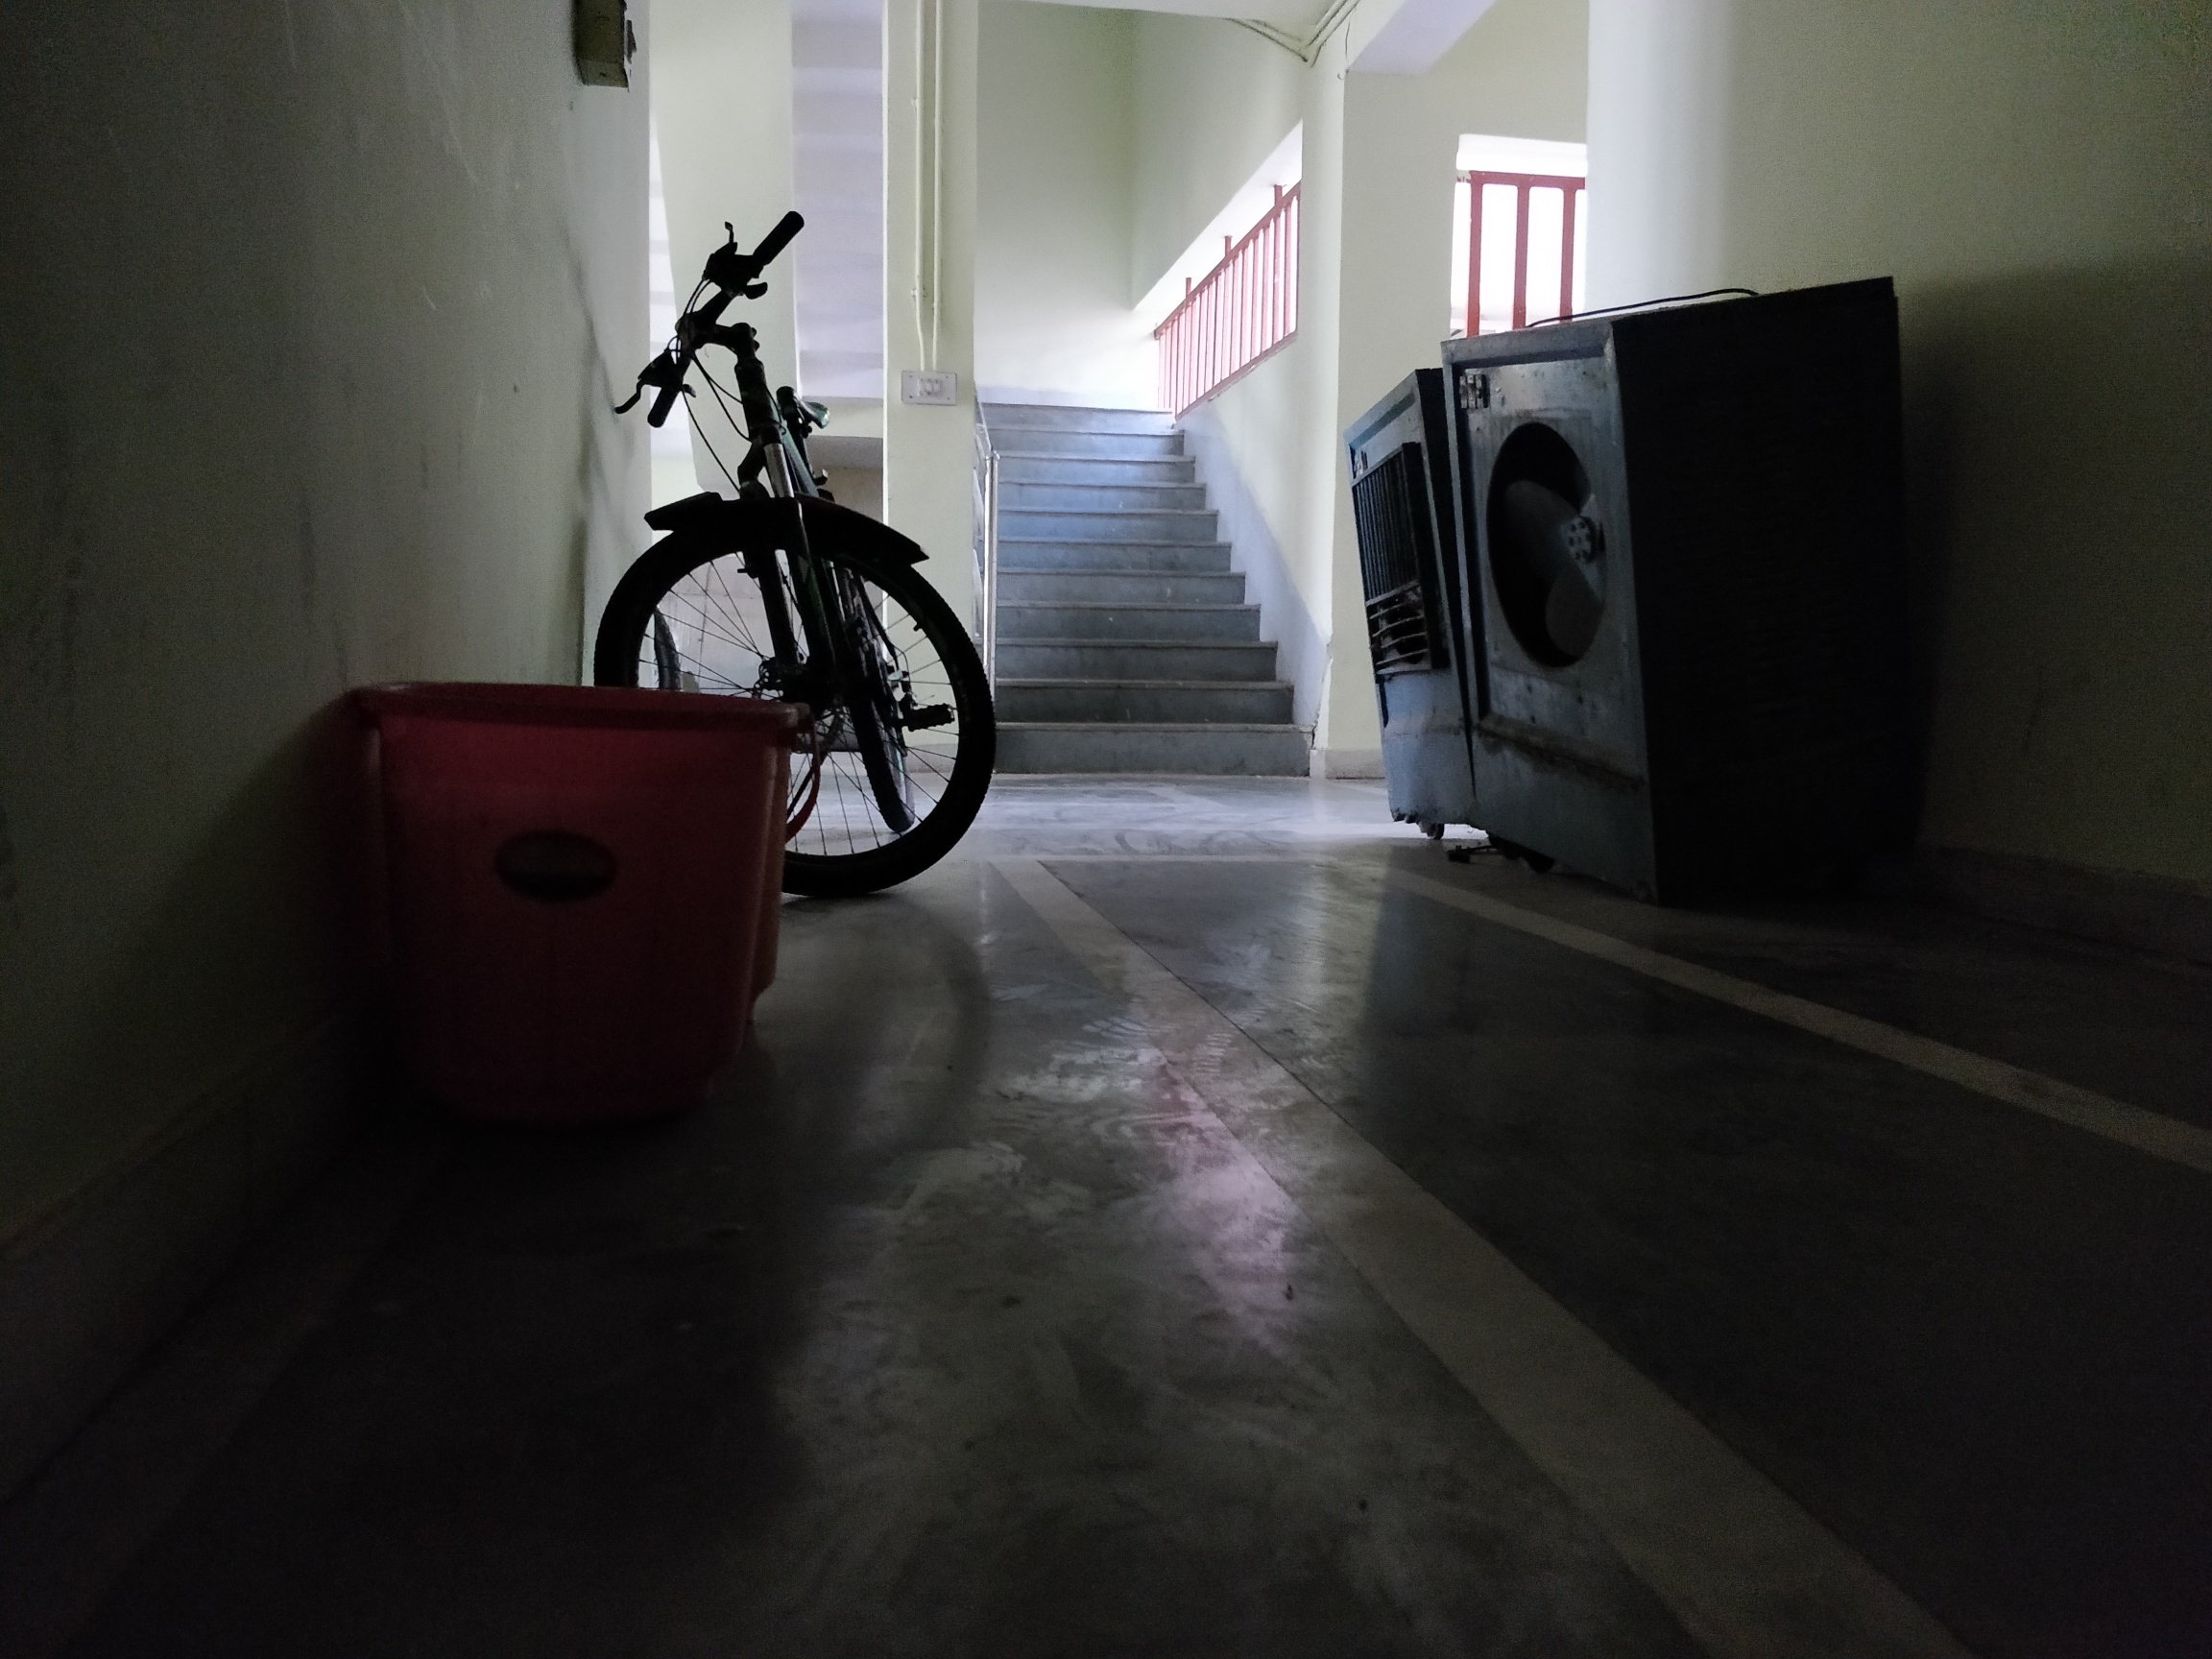stairs_up: (981, 404, 1305, 760)
